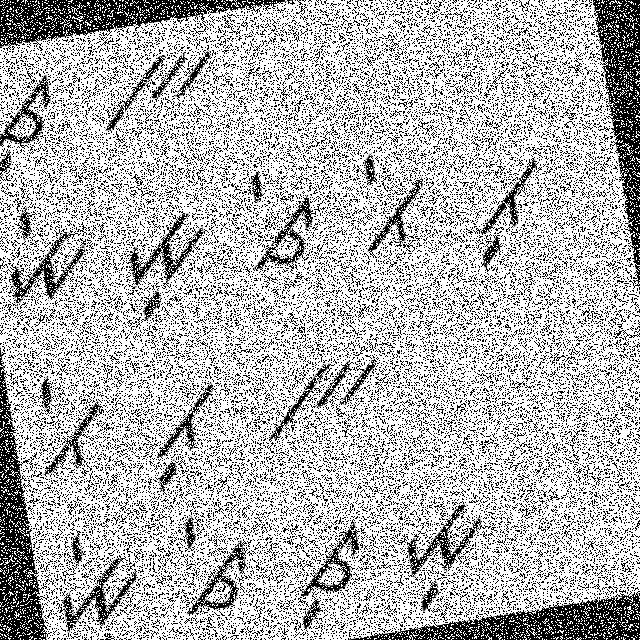be: (350, 138, 440, 266), (27, 362, 116, 486)
bu: (456, 147, 560, 275), (138, 373, 235, 496)
ce: (230, 154, 332, 286), (168, 502, 262, 622)
cu: (271, 513, 378, 633), (0, 67, 73, 188)
me: (37, 520, 151, 638), (0, 197, 100, 312)
mu: (385, 486, 505, 618), (113, 198, 225, 326)
